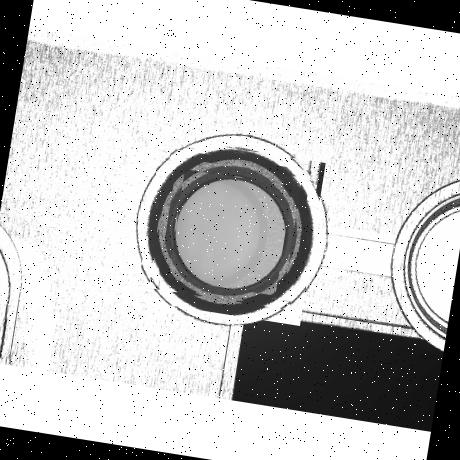Hole: (136, 136, 326, 326)
Hole2: (148, 148, 312, 310)
Hole3: (157, 158, 302, 306)
Hole4: (166, 168, 292, 296)
